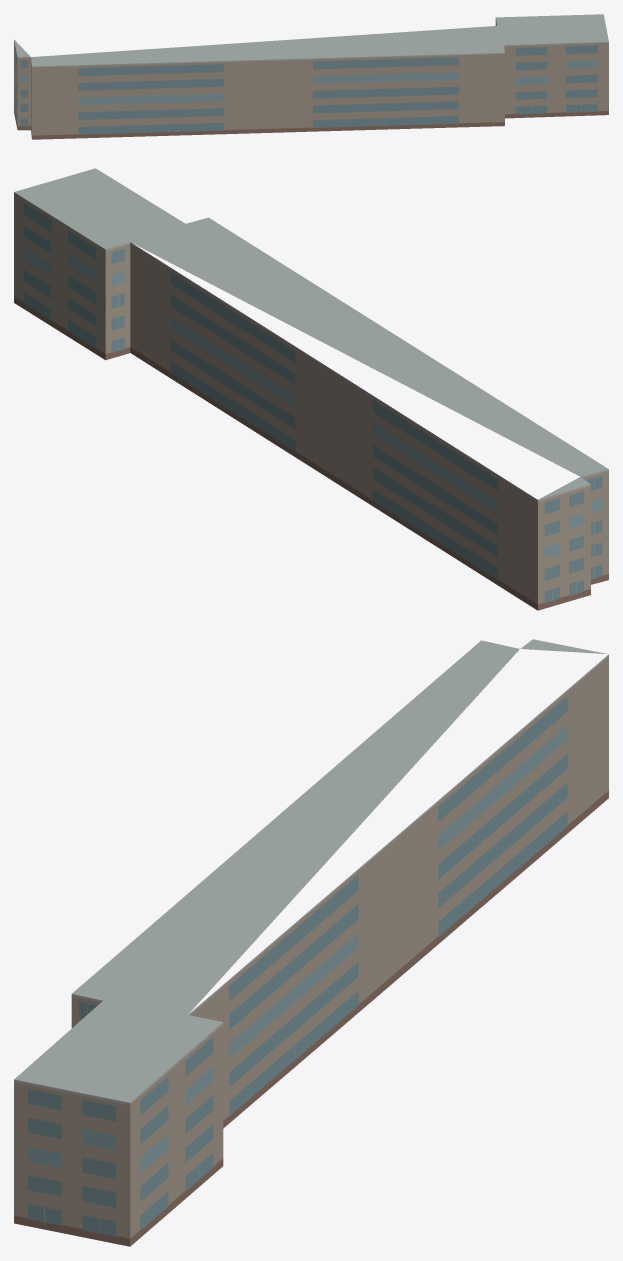
Rendered from survey-upis-32983163.glb.
The picture shows the model from 3 angles, top to bottom: view 1: azimuth 30°, elevation 25°; view 2: azimuth 150°, elevation 25°; view 3: azimuth 270°, elevation 25°; orthographic projection. The views are drawn at different scales.
Parts seen in each view (by area): view 1: survey-upis-32983163.tmp; view 2: survey-upis-32983163.tmp; view 3: survey-upis-32983163.tmp.
Part boxes in pixels (x1,y1,x2,y2): survey-upis-32983163.tmp: (14, 14, 608, 139); survey-upis-32983163.tmp: (14, 168, 608, 610); survey-upis-32983163.tmp: (14, 639, 608, 1246).
Size of the model in its own units: 105 by 15.25 by 57.15.
